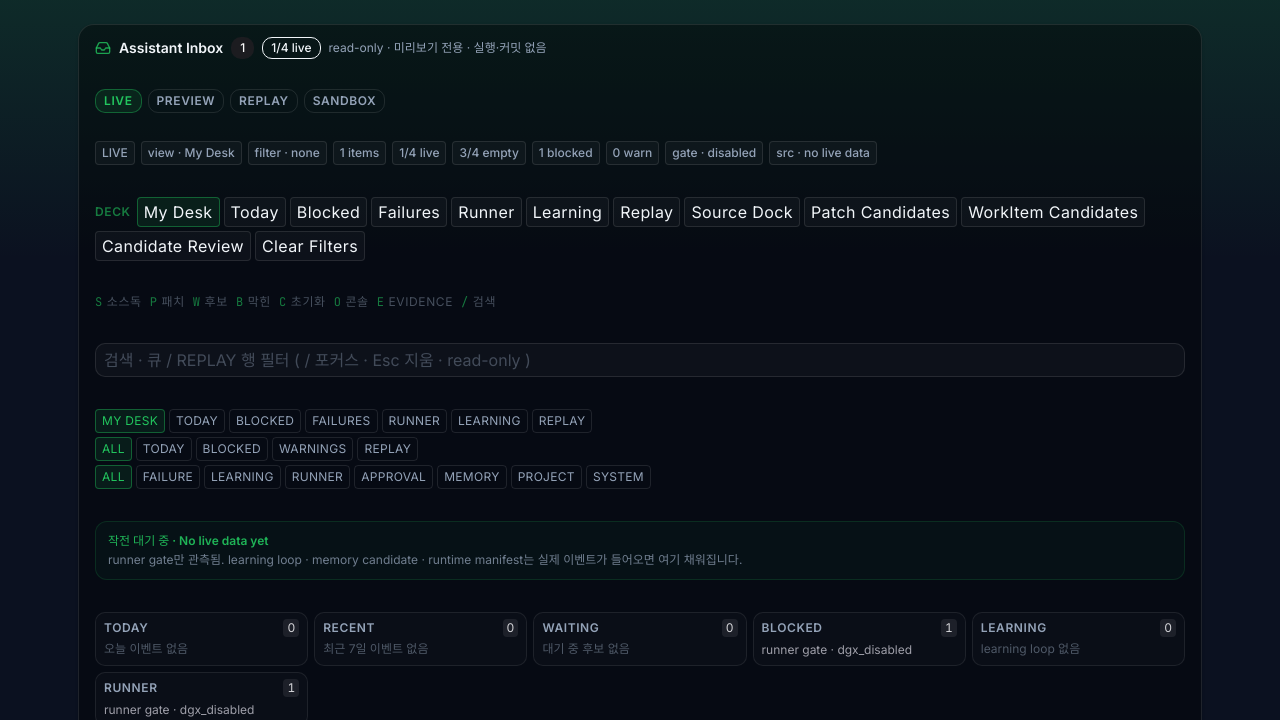
Test: Batch 8 — LINE C: REPLAY mode shell › shows an honest empty replay state when the event log is empty
Click the radio button with test id "inbox-mode-option-replay" at (264, 101), box [230, 89, 298, 113]
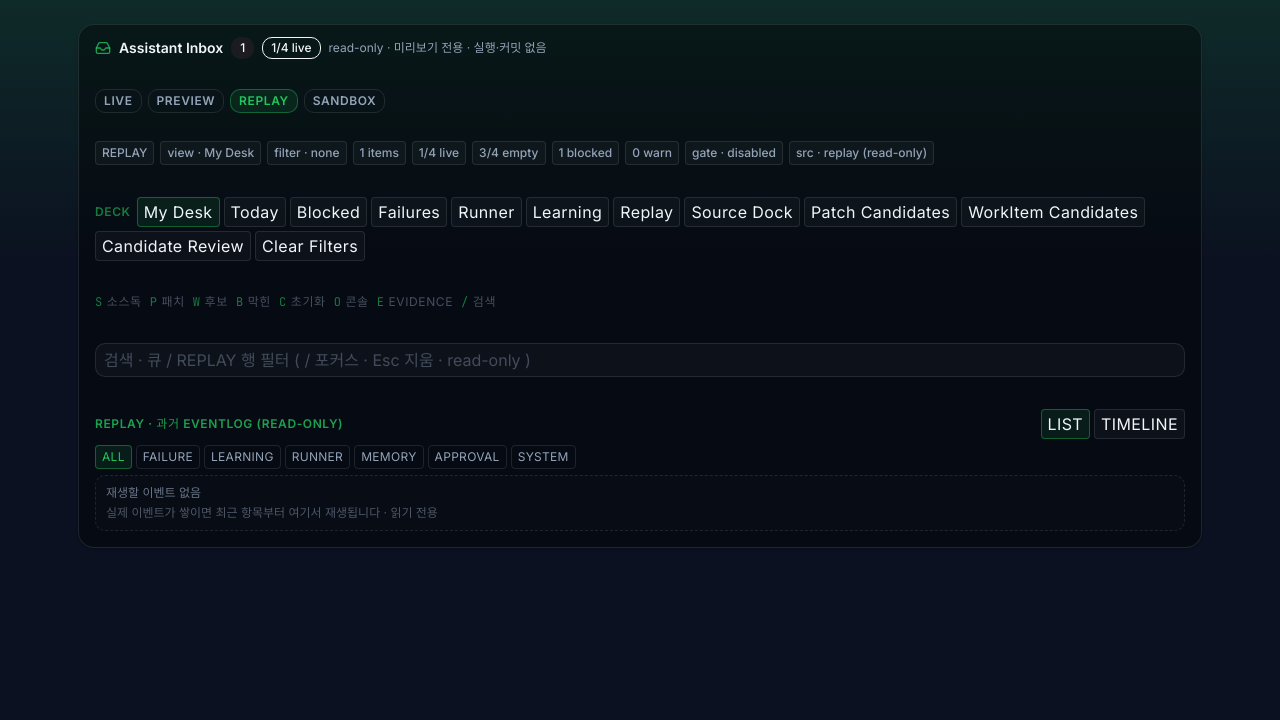
Expected: the element with test id "replay-deck-empty" is shown, [95, 475, 1185, 531]
